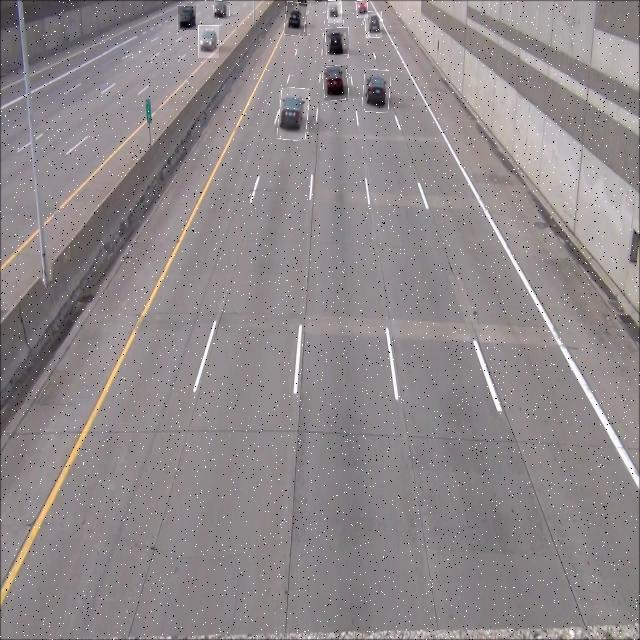Car: (279, 88, 309, 140), (363, 70, 391, 112), (324, 65, 348, 101), (285, 1, 307, 36), (198, 25, 219, 58), (326, 28, 349, 55), (177, 5, 196, 30), (365, 12, 382, 38), (213, 0, 230, 19), (328, 0, 342, 23), (356, 0, 368, 18)
